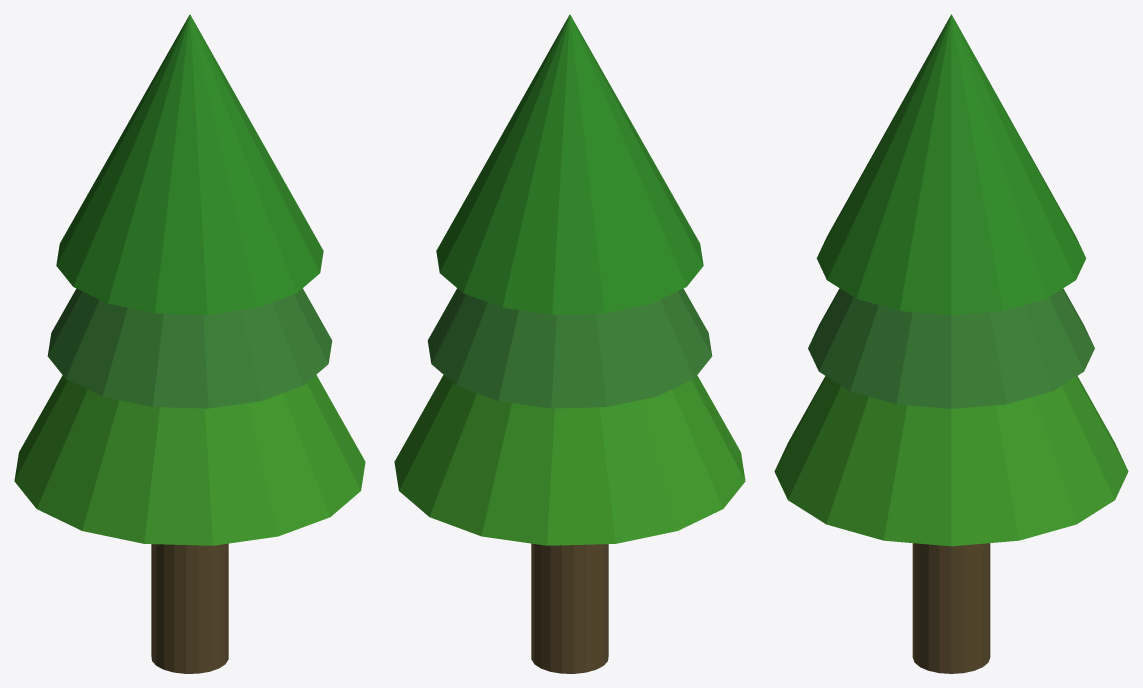
The model's file is tree.glb.
3 views of the same model, side by side, from view 1: azimuth 30°, elevation 25°; view 2: azimuth 150°, elevation 25°; view 3: azimuth 270°, elevation 25° (orthographic).
Visible parts, largest first — view 1: Cône.002, Cône.000, Cône.001, Cylindre; view 2: Cône.002, Cône.000, Cône.001, Cylindre; view 3: Cône.002, Cône.000, Cône.001, Cylindre.
Part boxes in pixels (bbox=[...]): Cône.002: bbox=[56, 14, 323, 314]; Cône.000: bbox=[14, 375, 365, 545]; Cône.001: bbox=[47, 288, 332, 408]; Cylindre: bbox=[151, 543, 228, 673]; Cône.002: bbox=[436, 14, 703, 314]; Cône.000: bbox=[394, 375, 745, 545]; Cône.001: bbox=[427, 288, 712, 408]; Cylindre: bbox=[531, 543, 608, 673]; Cône.002: bbox=[816, 14, 1086, 315]; Cône.000: bbox=[774, 376, 1128, 546]; Cône.001: bbox=[808, 288, 1094, 408]; Cylindre: bbox=[912, 543, 990, 673].
Bounding box in the file's own units: 3.37 × 6.75 × 3.37.
